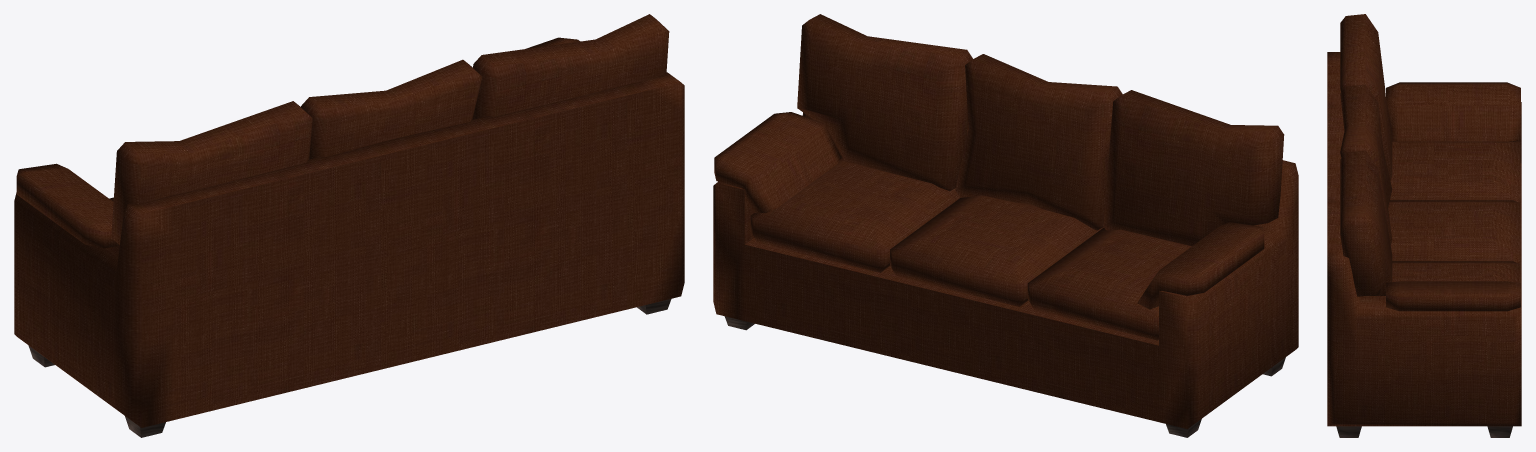
The model's file is Armchair_11.glb.
3 views of the same model, side by side, from view 1: azimuth 30°, elevation 25°; view 2: azimuth 150°, elevation 25°; view 3: azimuth 270°, elevation 25° (orthographic). The views are drawn at different scales.
Visible parts, largest first — view 1: Armchair_11; view 2: Armchair_11; view 3: Armchair_11.
Part boxes in pixels (x1,y1,x2,y2): Armchair_11: [14, 14, 684, 437]; Armchair_11: [713, 14, 1298, 437]; Armchair_11: [1327, 14, 1521, 437].
Bounding box in the file's own units: 2.24 × 1.08 × 0.8552.
Materials: 2 (2 with a texture image).
